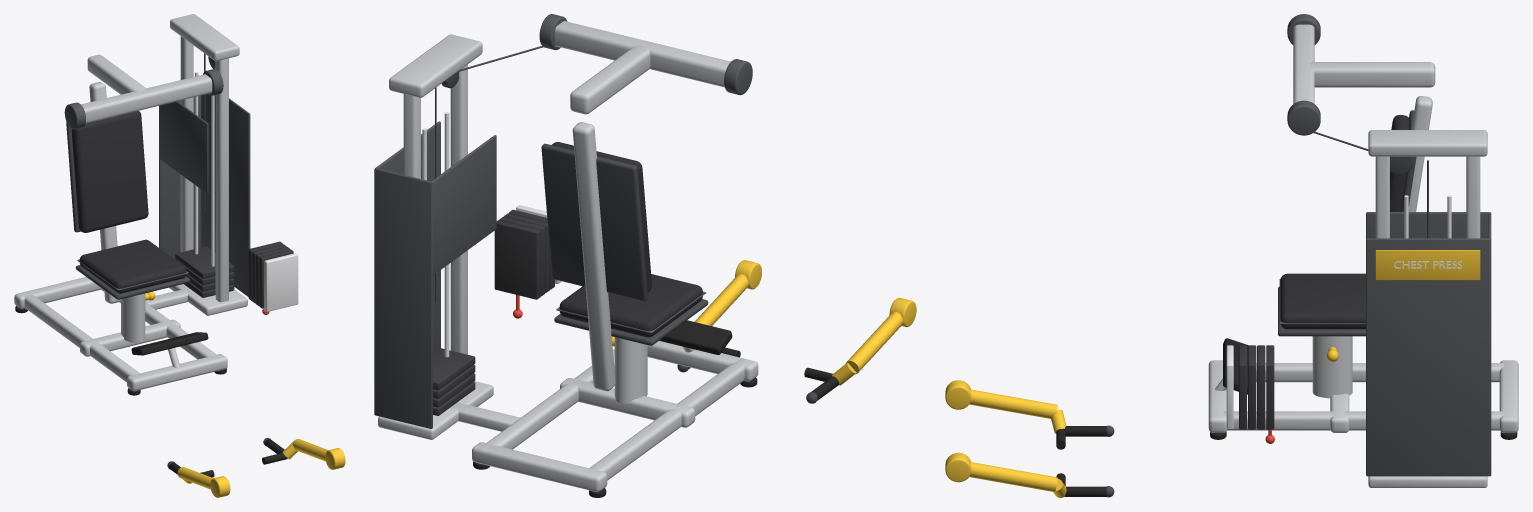
Rendered from ChestPress.fbx.
The picture shows the model from 3 angles, left to right: view 1: azimuth 30°, elevation 25°; view 2: azimuth 150°, elevation 25°; view 3: azimuth 270°, elevation 25°; orthographic projection. The views are drawn at different scales.
Parts seen in each view (by area): view 1: Backrest, Shroud_Side_Out, Seat, Shroud_Side_In, Tower_Post_1, Top_Cross, Shroud_Back, Base_Rail_L, Head_Plate, Tower_Top, Tower_Post_2, Base_Cross_1 (+22 smaller); view 2: Shroud_Back, Backrest_Shell, Shroud_Side_In, Back_Post, Top_Cross, Seat, Base_Rail_L, Plate_1, Tower_Post_1, Tower_Top, Base_Cross_3, Top_Beam (+17 smaller); view 3: Shroud_Side_Out, Seat, Tower_Top, Placard, Top_Beam, Shroud_Side_In, Seat_Column, Base_Rail_R, Top_Cross, Tower_Base, Press_Arm_R, Base_Cross_3 (+18 smaller).
Part boxes in pixels (<box>): Backrest: <box>71,111,148,232</box>; Shroud_Side_Out: <box>201,94,250,296</box>; Seat: <box>79,239,186,293</box>; Shroud_Side_In: <box>159,101,208,193</box>; Tower_Post_1: <box>215,58,228,302</box>; Top_Cross: <box>81,74,212,123</box>; Shroud_Back: <box>159,95,201,259</box>; Base_Rail_L: <box>24,291,143,389</box>; Head_Plate: <box>264,253,298,311</box>; Tower_Top: <box>170,14,239,61</box>; Tower_Post_2: <box>180,36,193,252</box>; Base_Cross_1: <box>127,354,227,391</box>; Shroud_Back: <box>374,168,432,428</box>; Backrest_Shell: <box>541,143,647,301</box>; Shroud_Side_In: <box>431,135,496,275</box>; Back_Post: <box>572,122,615,391</box>; Top_Cross: <box>554,21,730,87</box>; Seat: <box>559,274,702,337</box>; Base_Rail_L: <box>582,358,748,487</box>; Plate_1: <box>494,220,540,299</box>; Tower_Post_1: <box>450,64,467,354</box>; Tower_Top: <box>389,34,482,97</box>; Base_Cross_3: <box>472,442,607,492</box>; Top_Beam: <box>570,44,650,114</box>; Shroud_Side_Out: <box>1366,238,1489,476</box>; Seat: <box>1280,273,1365,329</box>; Tower_Top: <box>1368,130,1487,156</box>; Placard: <box>1375,250,1480,280</box>; Top_Beam: <box>1306,62,1435,87</box>; Shroud_Side_In: <box>1366,212,1488,238</box>; Seat_Column: <box>1312,336,1352,398</box>; Base_Rail_R: <box>1223,411,1503,430</box>; Top_Cross: <box>1293,24,1314,103</box>; Tower_Base: <box>1368,476,1487,487</box>; Press_Arm_R: <box>969,462,1057,492</box>; Base_Cross_3: <box>1499,360,1518,432</box>.
Bounding box in the file's own units: 1.28 × 1.88 × 2.4.
